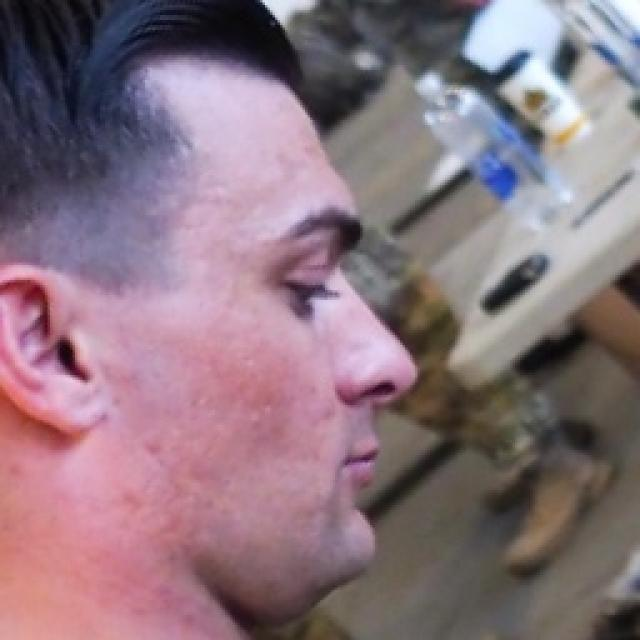no-glasses: (247, 238, 351, 332)
